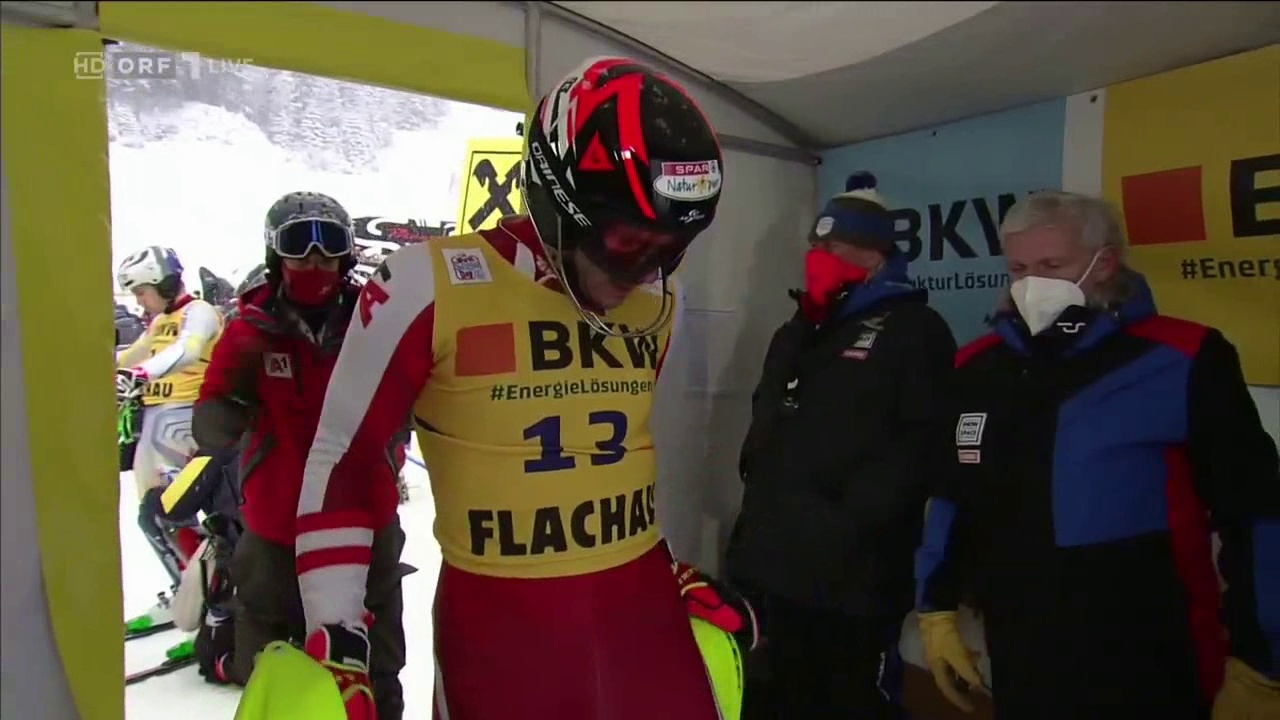raiffeisen: (459, 150, 527, 235)
